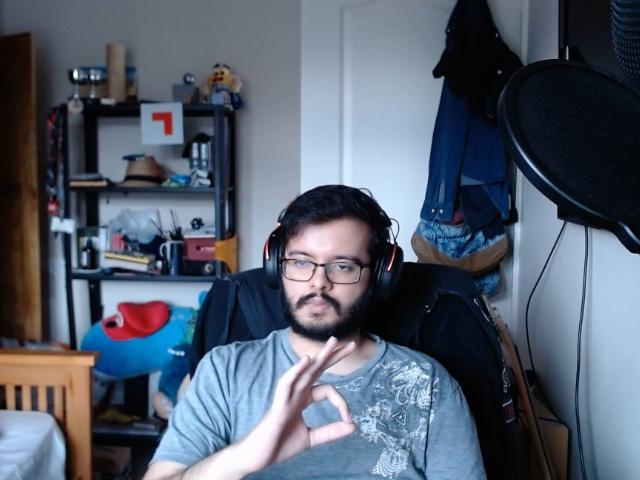Okay: (226, 325, 368, 466)
